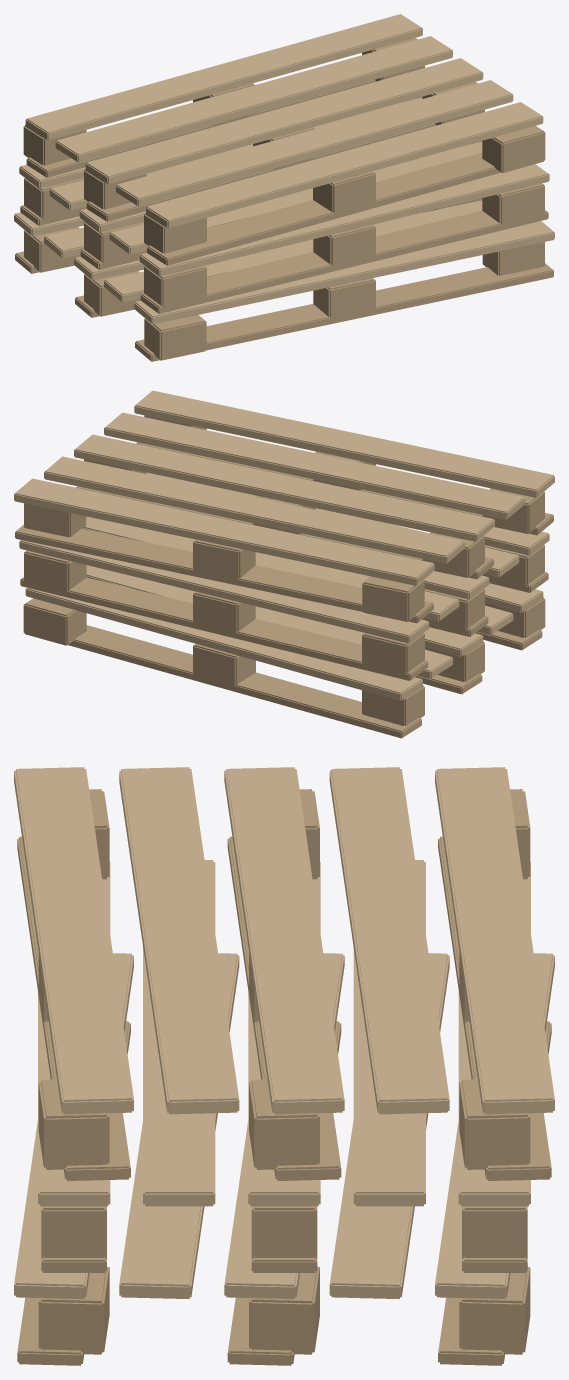
File: ext_pallet_stack.glb
3 views of the same model, one above another, from view 1: azimuth 30°, elevation 25°; view 2: azimuth 150°, elevation 25°; view 3: azimuth 270°, elevation 25° (orthographic). The views are drawn at different scales.
Parts seen in each view (by area): view 1: PalletStack; view 2: PalletStack; view 3: PalletStack.
Part boxes in pixels (<box>): PalletStack: <box>14,14,554,361</box>; PalletStack: <box>14,390,554,738</box>; PalletStack: <box>14,767,554,1365</box>.
Size of the model in its own units: 1.2 by 0.446 by 0.8227.
